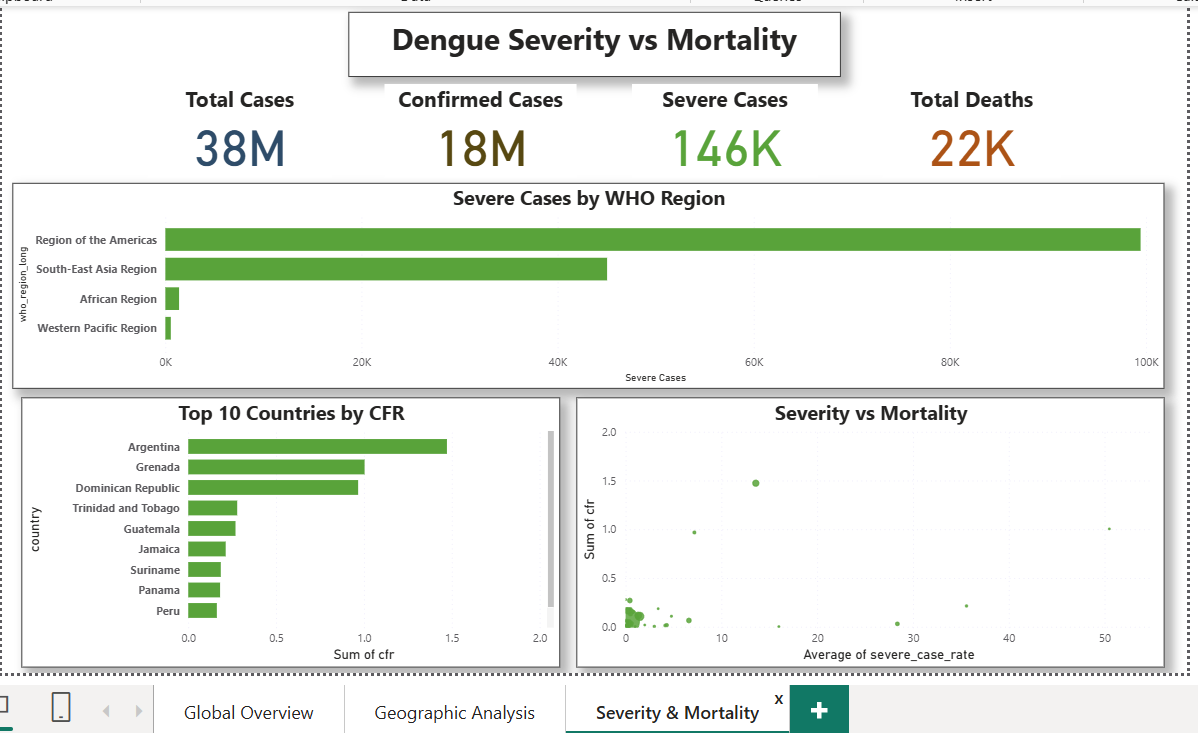

Layout of this report page (visuals, bound fields, positions):
{"tool":"powerbi","page":{"name":"Severity & Mortality","canvas":[1280,720],"ordinal":2},"visuals":[{"type":"textbox","box":[374.2,5.7,531,69.9],"z":0},{"type":"barChart","title":"Severe Cases by WHO Region","fields":{"Category":["dengue_featured.who_region_long"],"Y":["dengue_featured.Severe Cases"]},"box":[11.3,191.1,1243.6,221.8],"z":1},{"type":"barChart","title":"Top 10 Countries by CFR","fields":{"Category":["dengue_featured.country"],"Y":["Sum(dengue_featured.cfr)"]},"box":[21,422.6,581.3,291.5],"z":2},{"type":"scatterChart","title":"Severity vs Mortality ","fields":{"X":["Avg(dengue_featured.severe_case_rate)"],"Y":["Sum(dengue_featured.cfr)"],"Size":["dengue_featured.Total Cases"],"Category":["dengue_featured.country"]},"box":[620.2,422.6,634.7,291.5],"z":3},{"type":"card","title":"Total Cases","fields":{"Values":["dengue_featured.Total Cases"]},"box":[157.6,84.7,199.2,100.4],"z":4},{"type":"card","title":"Confirmed Cases ","fields":{"Values":["dengue_featured.Confirmed Cases"]},"box":[412.9,84.2,207.3,100.4],"z":5},{"type":"card","title":"Severe Cases ","fields":{"Values":["dengue_featured.Severe Cases"]},"box":[680.1,84.2,200.8,100.4],"z":6},{"type":"card","title":"Total Deaths ","fields":{"Values":["Sum(dengue_featured.deaths)"]},"box":[951,84.7,192.7,100.4],"z":7}]}

Visuals, with their boxes on the page's 1280x720 design canvas (x1, y1, x2, y2). These are canvas units, not pixel positions in the 1198x733 screenshot, which may show the page scaled, cropped or inside an application window:
textbox: [x1=374, y1=6, x2=905, y2=76]
"Severe Cases by WHO Region" barChart: [x1=11, y1=191, x2=1255, y2=413]
"Top 10 Countries by CFR" barChart: [x1=21, y1=423, x2=602, y2=714]
"Severity vs Mortality " scatterChart: [x1=620, y1=423, x2=1255, y2=714]
"Total Cases" card: [x1=158, y1=85, x2=357, y2=185]
"Confirmed Cases " card: [x1=413, y1=84, x2=620, y2=185]
"Severe Cases " card: [x1=680, y1=84, x2=881, y2=185]
"Total Deaths " card: [x1=951, y1=85, x2=1144, y2=185]
